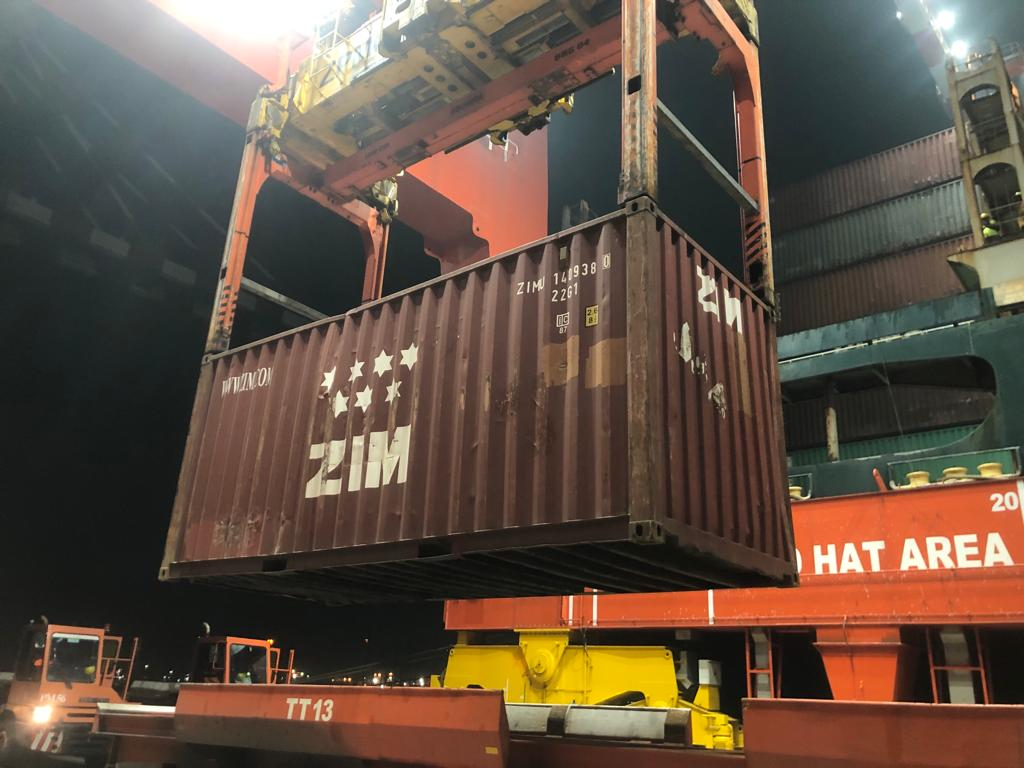moderate: (321, 345, 564, 442), (188, 491, 308, 551)
